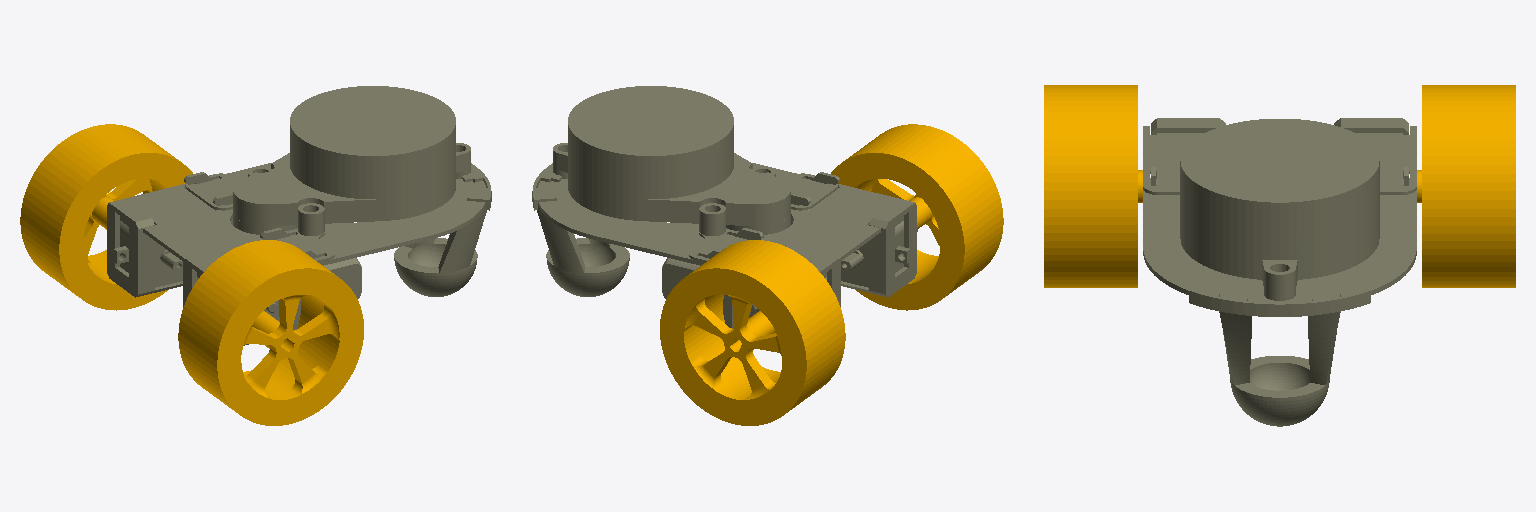
robot.urdf — little_red_rover:
<robot name="little_red_rover">
<link name="base_link"></link>
<joint name="base_link_to_base" type="fixed">
<parent link="base_link"/>
<child link="robot_body" />
<origin rpy="0.0 0 0" xyz="0 0 0"/>
</joint>
<link name="robot_body">
<collision>
<origin xyz="0.074999999999999691913 1.1093356479670478514e-31 0.044979999999999825677" rpy="-4.5926041576390595874e-31 -9.1852083152781191747e-31 -3.141592653589793116" />
<geometry>
<mesh filename="package://lrr_description/description/rover/skid.stl"/>
</geometry>
</collision>
<collision>
<origin xyz="0.00010000000000388330527 0.027499999999998463174 0.030480000000000832816" rpy="9.9920072216264838056e-16 -1.5707963267948712449 0" />
<geometry>
<mesh filename="package://lrr_description/description/rover/tt_motor_mount.stl"/>
</geometry>
</collision>
<collision>
<origin xyz="0.074999999999999691913 9.5526125241606898312e-32 0.046279999999999751892" rpy="3.141592653589793116 -9.1852083152781191747e-31 -3.141592653589793116" />
<geometry>
<mesh filename="package://lrr_description/description/rover/motor_attachment_shim.stl"/>
</geometry>
</collision>
<collision>
<origin xyz="3.6203678943636058724e-15 0.027499999999998445827 0.030480000000000645466" rpy="-1.3795654573633716087e-29 -1.5707963267948705788 0" />
<geometry>
<mesh filename="package://lrr_description/description/rover/motor_mount_shim.stl"/>
</geometry>
</collision>
<collision>
<origin xyz="0.074999999999999691913 1.0785207688568520777e-31 0.045279999999999806515" rpy="-4.5926041576390595874e-31 -9.1852083152781191747e-31 -3.141592653589793116" />
<geometry>
<mesh filename="package://lrr_description/description/rover/lidar_motor.stl"/>
</geometry>
</collision>
<collision>
<origin xyz="0.074999999999999691913 1.0785207688568520777e-31 0.045279999999999806515" rpy="-4.5926041576390595874e-31 -9.1852083152781191747e-31 -3.141592653589793116" />
<geometry>
<mesh filename="package://lrr_description/description/rover/pcb.stl"/>
</geometry>
</collision>
<collision>
<origin xyz="0.074999999999999691913 1.0785207688568520777e-31 0.045279999999999806515" rpy="-4.5926041576390595874e-31 -9.1852083152781191747e-31 -3.141592653589793116" />
<geometry>
<mesh filename="package://lrr_description/description/rover/lidar_top.stl"/>
</geometry>
</collision>
<collision>
<origin xyz="3.462508058049723921e-15 -0.02749999999999835909 0.030480000000000211785" rpy="1.5556462360342615066e-29 -1.570796326794871689 0" />
<geometry>
<mesh filename="package://lrr_description/description/rover/motor_mount_shim.stl"/>
</geometry>
</collision>
<collision>
<origin xyz="0.074999999999999691913 1.0785207688568520777e-31 0.045279999999999806515" rpy="-4.5926041576390595874e-31 -9.1852083152781191747e-31 -3.141592653589793116" />
<geometry>
<mesh filename="package://lrr_description/description/rover/motor_attachment_shim.stl"/>
</geometry>
</collision>
<collision>
<origin xyz="0.00010000000000341492993 -0.027499999999998553379 0.030480000000000454646" rpy="-6.5919492087119576778e-16 -1.5707963267948701347 0" />
<geometry>
<mesh filename="package://lrr_description/description/rover/tt_motor_mount.stl"/>
</geometry>
</collision>
<collision>
<origin xyz="3.6203678943636058724e-15 0.027499999999998445827 0.030480000000000645466" rpy="-3.141592653589793116 1.570796326794871689 0" />
<geometry>
<mesh filename="package://lrr_description/description/rover/tt_motor_3777_v10.stl"/>
</geometry>
</collision>
<collision>
<origin xyz="3.6203678943636058724e-15 0.027499999999998445827 0.030480000000000645466" rpy="-3.141592653589793116 1.570796326794871689 0" />
<geometry>
<mesh filename="package://lrr_description/description/rover/tt_motor_3777_v10.stl"/>
</geometry>
</collision>
<collision>
<origin xyz="3.6203678943636058724e-15 0.027499999999998445827 0.030480000000000645466" rpy="-3.141592653589793116 1.570796326794871689 0" />
<geometry>
<mesh filename="package://lrr_description/description/rover/tt_motor_3777_v10.stl"/>
</geometry>
</collision>
<collision>
<origin xyz="3.6203678943636058724e-15 0.027499999999998445827 0.030480000000000645466" rpy="-3.141592653589793116 1.570796326794871689 0" />
<geometry>
<mesh filename="package://lrr_description/description/rover/tt_motor_3777_v10.stl"/>
</geometry>
</collision>
<collision>
<origin xyz="3.6203678943636058724e-15 0.027499999999998445827 0.030480000000000645466" rpy="-3.141592653589793116 1.570796326794871689 0" />
<geometry>
<mesh filename="package://lrr_description/description/rover/tt_motor_3777_v10.stl"/>
</geometry>
</collision>
<collision>
<origin xyz="3.6203678943636058724e-15 0.027499999999998445827 0.030480000000000645466" rpy="-3.141592653589793116 1.570796326794871689 0" />
<geometry>
<mesh filename="package://lrr_description/description/rover/tt_motor_3777_v10.stl"/>
</geometry>
</collision>
<collision>
<origin xyz="3.6203678943636058724e-15 0.027499999999998445827 0.030480000000000645466" rpy="-3.141592653589793116 1.570796326794871689 0" />
<geometry>
<mesh filename="package://lrr_description/description/rover/tt_motor_3777_v10.stl"/>
</geometry>
</collision>
<collision>
<origin xyz="3.6203678943636058724e-15 0.027499999999998445827 0.030480000000000645466" rpy="-3.141592653589793116 1.570796326794871689 0" />
<geometry>
<mesh filename="package://lrr_description/description/rover/tt_motor_3777_v10.stl"/>
</geometry>
</collision>
<collision>
<origin xyz="3.2630148583124017547e-15 -0.027499999999998539502 0.03048000000000037138" rpy="1.5950892812953118166e-29 -1.570796326794871689 0" />
<geometry>
<mesh filename="package://lrr_description/description/rover/tt_motor_3777_v10.stl"/>
</geometry>
</collision>
<collision>
<origin xyz="3.2630148583124017547e-15 -0.027499999999998539502 0.03048000000000037138" rpy="1.5950892812953118166e-29 -1.570796326794871689 0" />
<geometry>
<mesh filename="package://lrr_description/description/rover/tt_motor_3777_v10.stl"/>
</geometry>
</collision>
<collision>
<origin xyz="3.2630148583124017547e-15 -0.027499999999998539502 0.03048000000000037138" rpy="1.5950892812953118166e-29 -1.570796326794871689 0" />
<geometry>
<mesh filename="package://lrr_description/description/rover/tt_motor_3777_v10.stl"/>
</geometry>
</collision>
<collision>
<origin xyz="3.2630148583124017547e-15 -0.027499999999998539502 0.03048000000000037138" rpy="1.5950892812953118166e-29 -1.570796326794871689 0" />
<geometry>
<mesh filename="package://lrr_description/description/rover/tt_motor_3777_v10.stl"/>
</geometry>
</collision>
<collision>
<origin xyz="3.2630148583124017547e-15 -0.027499999999998539502 0.03048000000000037138" rpy="1.5950892812953118166e-29 -1.570796326794871689 0" />
<geometry>
<mesh filename="package://lrr_description/description/rover/tt_motor_3777_v10.stl"/>
</geometry>
</collision>
<collision>
<origin xyz="3.2630148583124017547e-15 -0.027499999999998539502 0.03048000000000037138" rpy="1.5950892812953118166e-29 -1.570796326794871689 0" />
<geometry>
<mesh filename="package://lrr_description/description/rover/tt_motor_3777_v10.stl"/>
</geometry>
</collision>
<collision>
<origin xyz="3.2630148583124017547e-15 -0.027499999999998539502 0.03048000000000037138" rpy="1.5950892812953118166e-29 -1.570796326794871689 0" />
<geometry>
<mesh filename="package://lrr_description/description/rover/tt_motor_3777_v10.stl"/>
</geometry>
</collision>
<collision>
<origin xyz="3.2630148583124017547e-15 -0.027499999999998539502 0.03048000000000037138" rpy="1.5950892812953118166e-29 -1.570796326794871689 0" />
<geometry>
<mesh filename="package://lrr_description/description/rover/tt_motor_3777_v10.stl"/>
</geometry>
</collision>
<visual>
<origin xyz="0 0 0" rpy="0 -0 0" />
<geometry>
<mesh filename="package://lrr_description/description/rover/robot_body_visual.stl"/>
</geometry>
<material name="robot_body_material">
<color rgba="0.54600512915027987759 0.54055055757933434535 0.45074002316652145295 1.0"/>
</material>
</visual>
<inertial>
<origin xyz="0.049271831748334070367 7.7454997493469521486e-07 0.044649548257402249529" rpy="0 0 0"/>
<mass value="0.2009726460542947124" />
<inertia ixx="0.00013869360392619804029" ixy="8.9644321588557175653e-09"  ixz="-4.8027734112450597159e-05" iyy="0.00028503969796305324508" iyz="1.8759790504687691218e-09" izz="0.00031681588396516020649" />
</inertial>
</link>

<link name="lidar">
<inertial>
<origin xyz="0 0 0" rpy="0 0 0" />
<mass value="1e-9" />
<inertia ixx="0" ixy="0" ixz="0" iyy="0" iyz="0" izz="0" />
</inertial>
</link>
<joint name="lidar_frame" type="fixed">
<origin xyz="0.074999999999999816813 -3.4694469519534816848e-18 0.065564999999999720726" rpy="3.4502589120532306517e-29 -5.578680289165322067e-30 1.1515748295240288399e-30" />
<parent link="robot_body" />
<child link="lidar" />
<axis xyz="0 0 0"/>
</joint>

<link name="wheel_left">
<collision>
<origin xyz="3.4694469519536141888e-18 3.4694469519536141888e-18 0.029940000000000015212" rpy="3.141592653589793116 -5.0580699046813964725e-33 -3.141592653589793116" />
<geometry>
<mesh filename="package://lrr_description/description/rover/wheel_left.stl"/>
</geometry>
</collision>
<visual>
<origin xyz="0 0 0" rpy="0 -0 0" />
<geometry>
<mesh filename="package://lrr_description/description/rover/wheel_left_visual.stl"/>
</geometry>
<material name="wheel_left_material">
<color rgba="0.98039215686274505668 0.71372549019607844922 0.0039215686274509803377 1.0"/>
</material>
</visual>
<inertial>
<origin xyz="2.623019758080288514e-17 5.2847079961555079783e-17 0.016300136674048160829" rpy="0 0 0"/>
<mass value="0.060465499993623508801" />
<inertia ixx="2.3167276380112803151e-05" ixy="-7.4674147420534043818e-22"  ixz="-1.1718170343165537995e-37" iyy="2.3166562982068070122e-05" iyz="7.3320609062518072402e-37" izz="3.8318422821940750637e-05" />
</inertial>
</link>

<joint name="wheel_left" type="continuous">
<origin xyz="3.6203678943636058724e-15 0.040799999999998386169 0.030480000000000645466" rpy="1.570796326794896558 -1.1789999146053913304 3.141592653589793116" />
<parent link="robot_body" />
<child link="wheel_left" />
<axis xyz="0 0 1"/>
<limit effort="1" velocity="20" />
<joint_properties friction="0.0"/>
</joint>

<link name="wheel_right">
<collision>
<origin xyz="-6.9388939039072283776e-18 -3.4694469519536141888e-18 -0.029940000000000022151" rpy="3.141592653589793116 -2.2796299281793848779e-44 -1.0666597387892984954e-17" />
<geometry>
<mesh filename="package://lrr_description/description/rover/wheel_right.stl"/>
</geometry>
</collision>
<visual>
<origin xyz="0 0 0" rpy="0 -0 0" />
<geometry>
<mesh filename="package://lrr_description/description/rover/wheel_right_visual.stl"/>
</geometry>
<material name="wheel_right_material">
<color rgba="0.98039215686274505668 0.71372549019607844922 0.0039215686274509803377 1.0"/>
</material>
</visual>
<inertial>
<origin xyz="-2.9160836131634292464e-17 -5.2608878684790795945e-17 -0.016300136674048244095" rpy="0 0 0"/>
<mass value="0.060465499993623932073" />
<inertia ixx="2.3167276380112898019e-05" ixy="3.7882117486134413823e-22"  ixz="5.0231703070057578677e-49" iyy="2.3166562982068168377e-05" iyz="-3.9703091509707728579e-49" izz="3.8318422821940838728e-05" />
</inertial>
</link>

<joint name="wheel_right" type="continuous">
<origin xyz="3.2630148583124013603e-15 -0.040799999999998497191 0.03048000000000037138" rpy="1.570796326794896558 -0.73960903976901759549 -3.141592653589793116" />
<parent link="robot_body" />
<child link="wheel_right" />
<axis xyz="0 0 1"/>
<limit effort="1" velocity="20" />
<joint_properties friction="0.0"/>
</joint>


</robot>

--- Facts derived from the render (not from the file) ---
The picture shows the robot from 3 angles, left to right: view 1: azimuth 30°, elevation 25°; view 2: azimuth 150°, elevation 25°; view 3: azimuth 270°, elevation 25°; orthographic projection.
Robot: little_red_rover — 5 links, 4 joints (2 continuous, 2 fixed); root link base_link; default pose: every joint at zero.
Visible links, largest first — view 1: robot_body, wheel_right, wheel_left; view 2: robot_body, wheel_left, wheel_right; view 3: robot_body, wheel_left, wheel_right.
Link boxes in pixels (x1=…): robot_body: x1=107, y1=86, x2=491, y2=345; wheel_right: x1=178, y1=240, x2=363, y2=425; wheel_left: x1=20, y1=124, x2=192, y2=310; robot_body: x1=532, y1=86, x2=916, y2=328; wheel_left: x1=660, y1=240, x2=845, y2=425; wheel_right: x1=831, y1=124, x2=1003, y2=310; robot_body: x1=1143, y1=118, x2=1416, y2=426; wheel_left: x1=1417, y1=85, x2=1515, y2=287; wheel_right: x1=1044, y1=85, x2=1142, y2=287.
Bounding box of the posed robot: 0.1481 × 0.1415 × 0.0744 m (x, y, z).
Meshes: 3 distinct files referenced, 3 mesh visuals loaded (3 binary STL).
